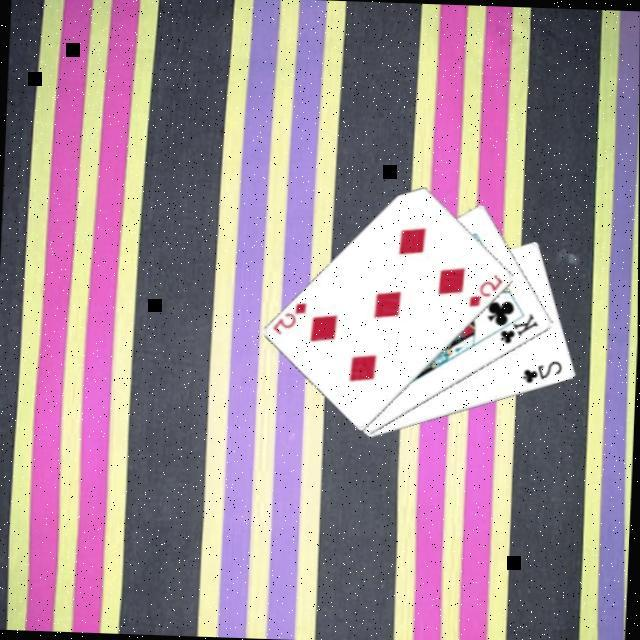2C: (519, 358, 565, 390)
5D: (268, 299, 309, 340), (466, 272, 504, 313)
KC: (488, 310, 540, 350)
